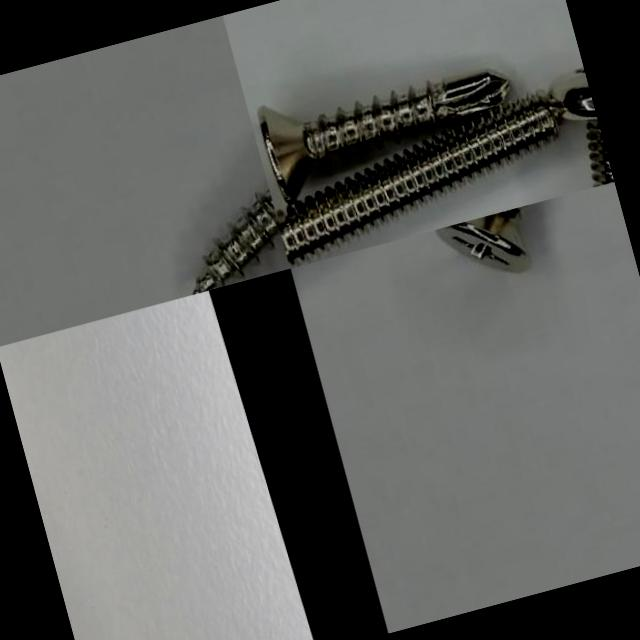Screw: (276, 95, 559, 261), (255, 70, 506, 204), (192, 186, 280, 294), (549, 68, 614, 187), (436, 207, 529, 272)
